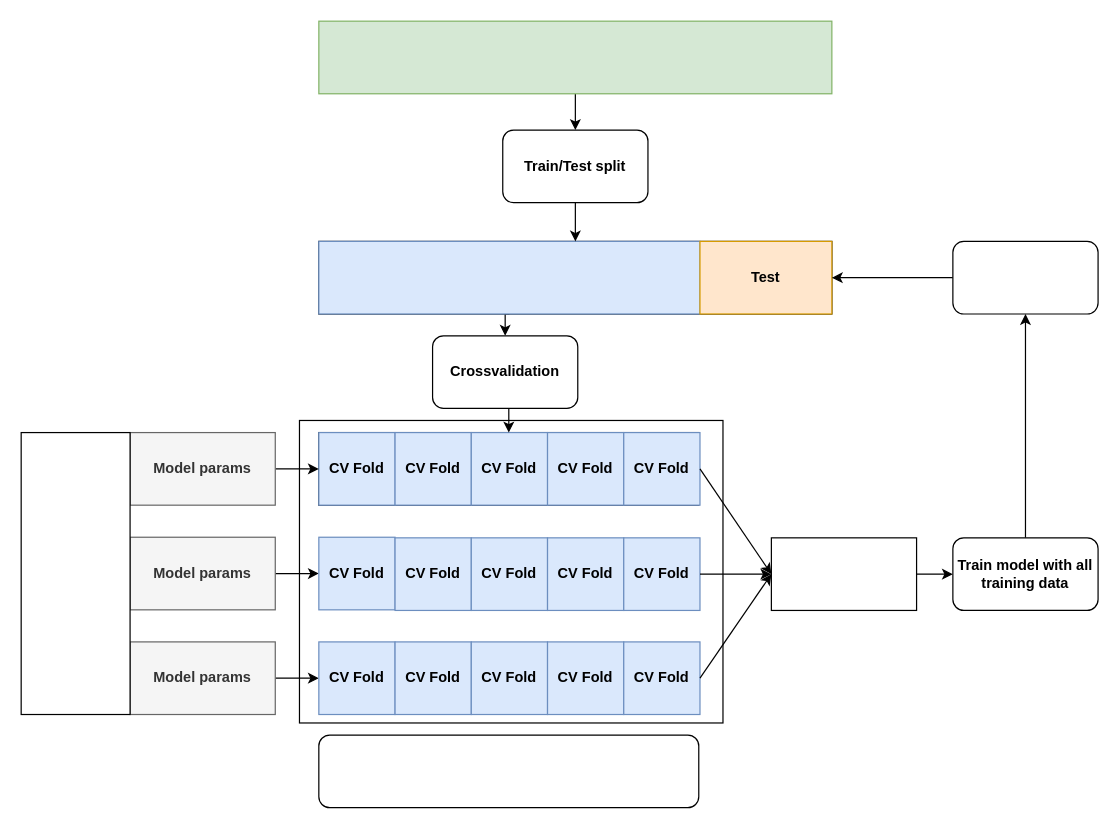
Some shapes in this 1119 by 829 pixel diagram are drawn without their labels. Each missing label, with the centre of its shape:
"Best results Params" belongs at (843,573).
"Dataset" belongs at (575,57).
"Model" belongs at (75,573).
"Predict on Test" belongs at (1025,277).
"Track performance" belongs at (508,771).
"Training" belongs at (509,277).
